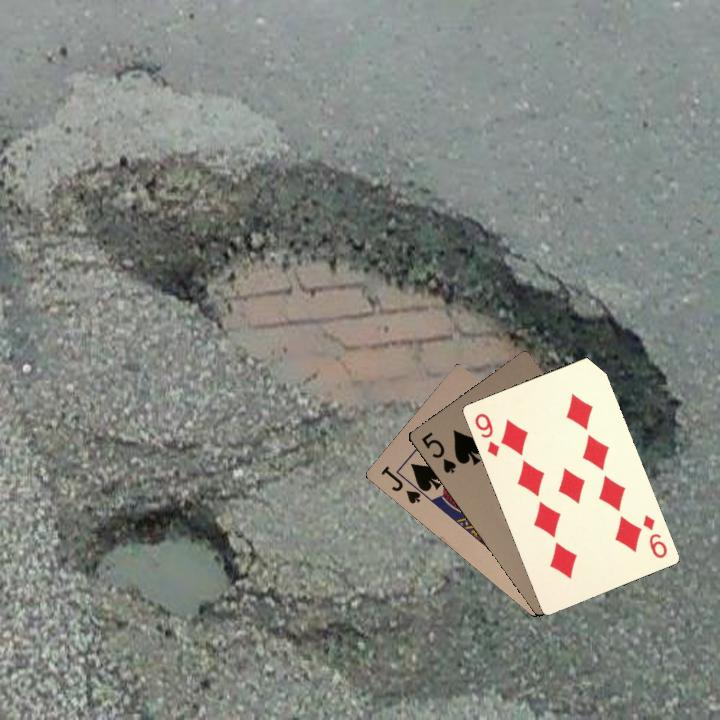5s: (417, 428, 459, 476)
9d: (639, 510, 670, 561), (471, 409, 502, 459)
Js: (377, 462, 427, 507)
